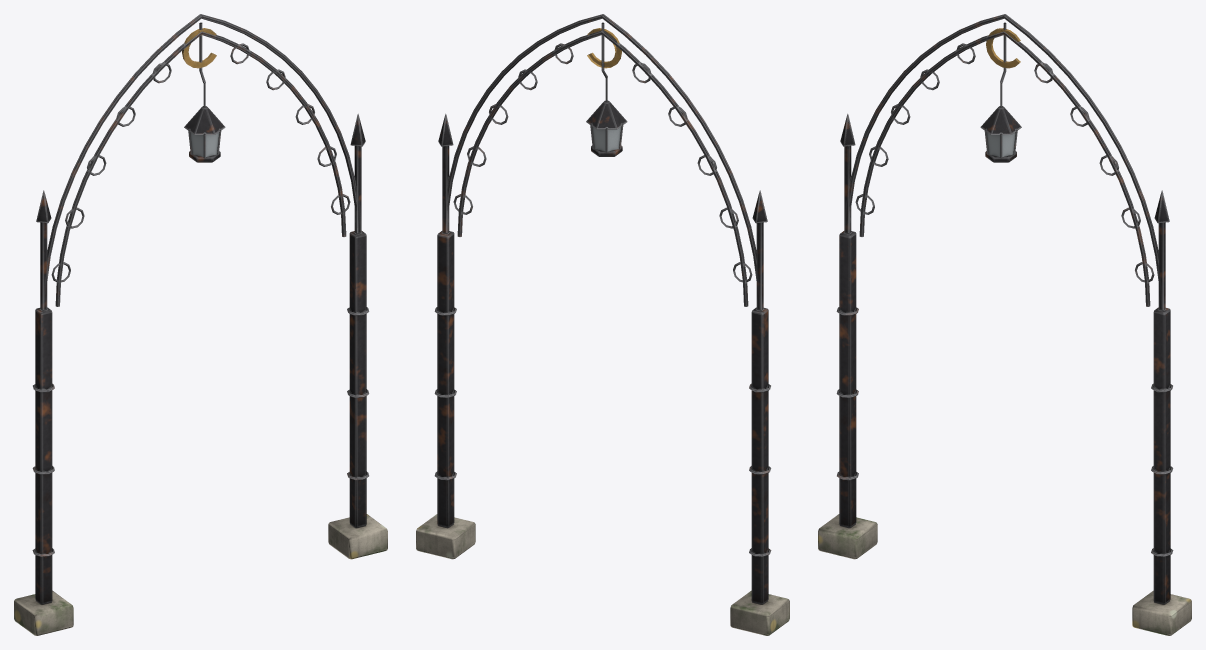
File: PathGateArch.fbx
The picture shows the model from 3 angles, left to right: view 1: azimuth 30°, elevation 25°; view 2: azimuth 150°, elevation 25°; view 3: azimuth 330°, elevation 25°; orthographic projection.
Visible parts, largest first — view 1: PathGateArch_Main, PathGateArch_Glass; view 2: PathGateArch_Main, PathGateArch_Glass; view 3: PathGateArch_Main, PathGateArch_Glass.
Boxes of the visible parts, x1,y1,x2,y2 form: PathGateArch_Main: [14, 14, 387, 635]; PathGateArch_Glass: [190, 132, 219, 156]; PathGateArch_Main: [416, 14, 789, 635]; PathGateArch_Glass: [592, 127, 621, 151]; PathGateArch_Main: [818, 14, 1191, 635]; PathGateArch_Glass: [986, 132, 1015, 156].
Size of the model in its own units: 810 by 1253 by 101.
